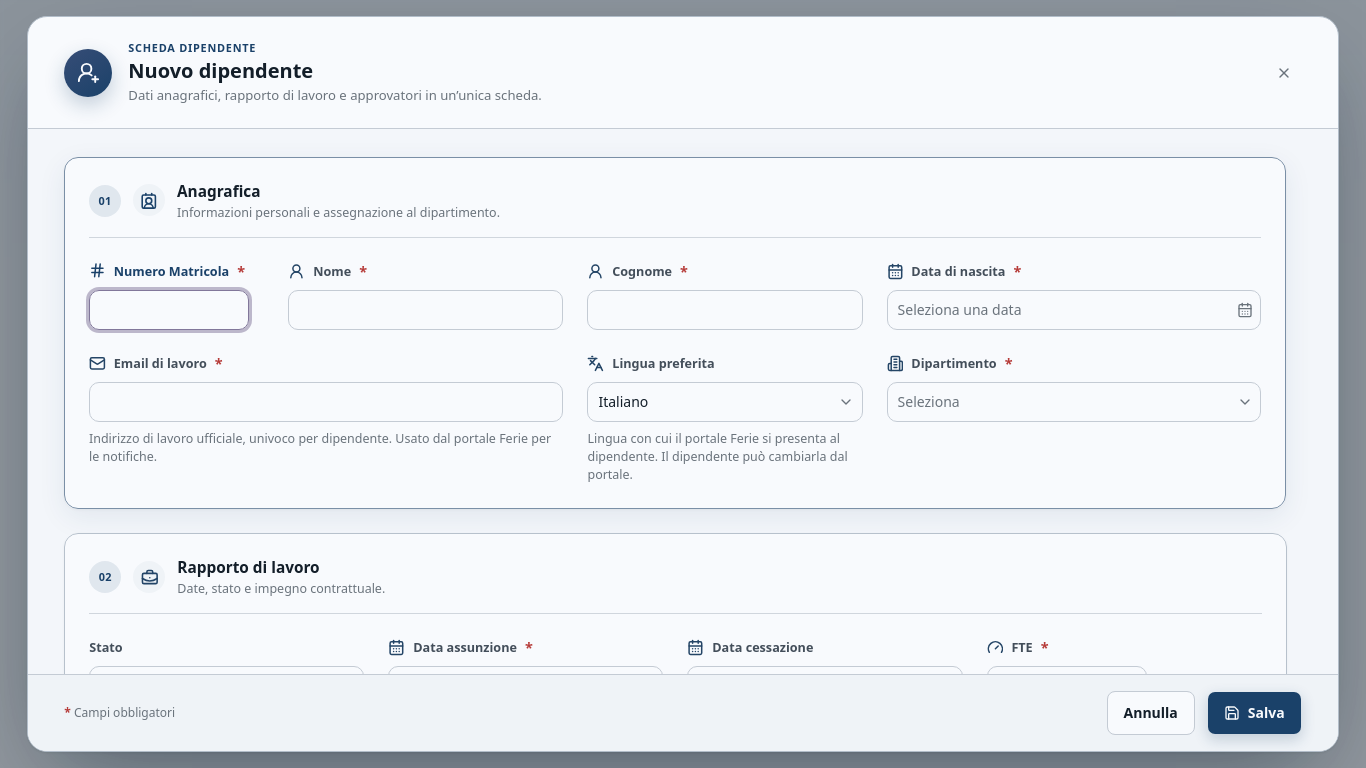
EmployeeForm modal › parses typed numeric dates as day/month/year
Type "15/03/1990" into the field named "Data di nascita". click: [1061, 310]
box: [888,290,1234,330]
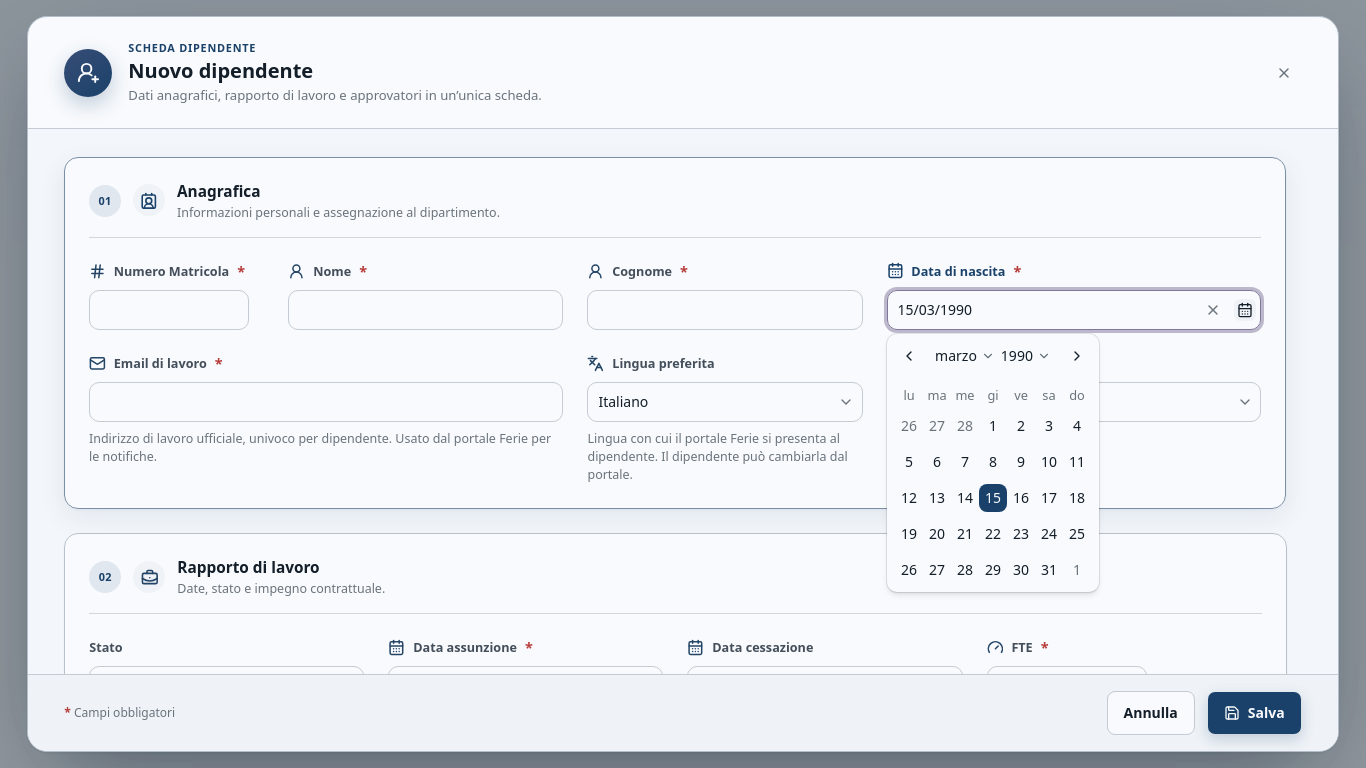
Press Tab
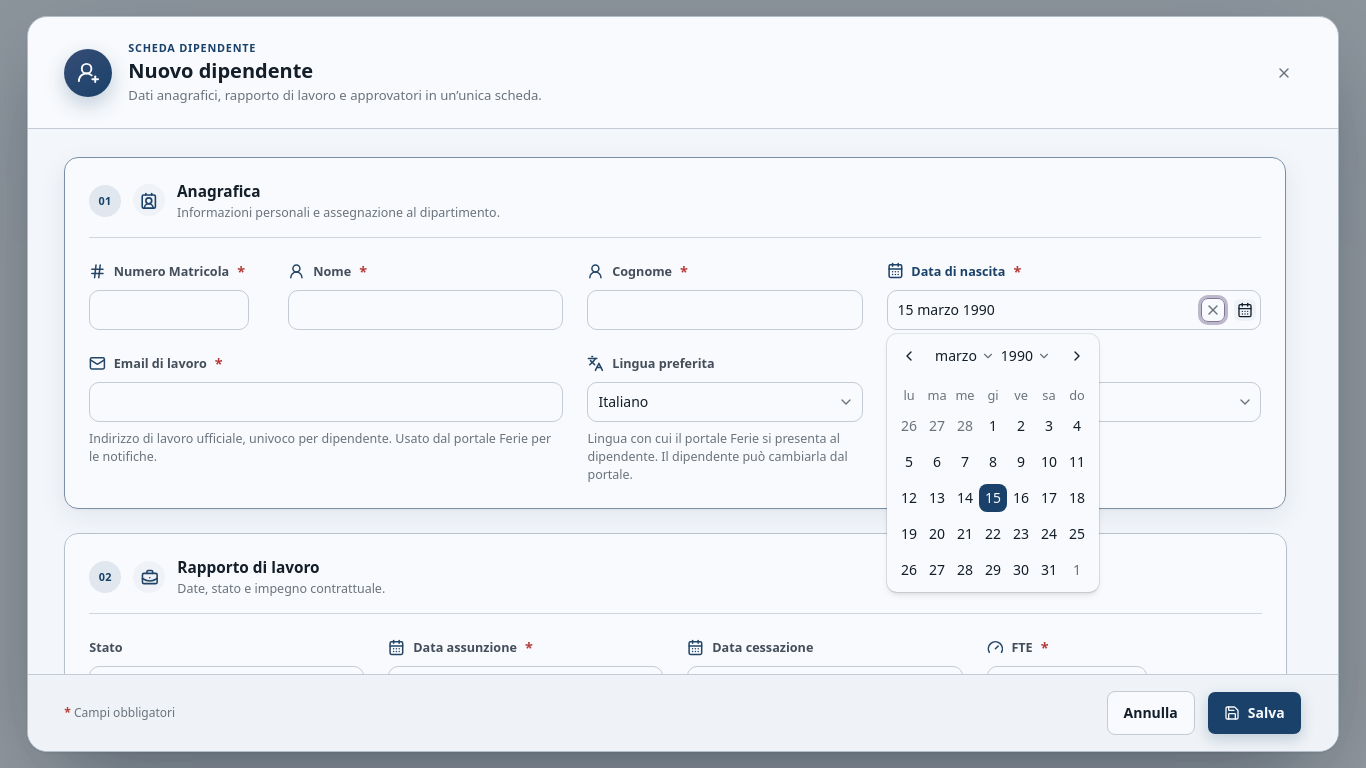
Check: the field named "Data di nascita" holds "15 marzo 1990"
1/5 must be 1 May (day-first), not 5 January (US month-first).
Clear the field named "Data di nascita". click: [1045, 310]
box: [888,290,1202,330]
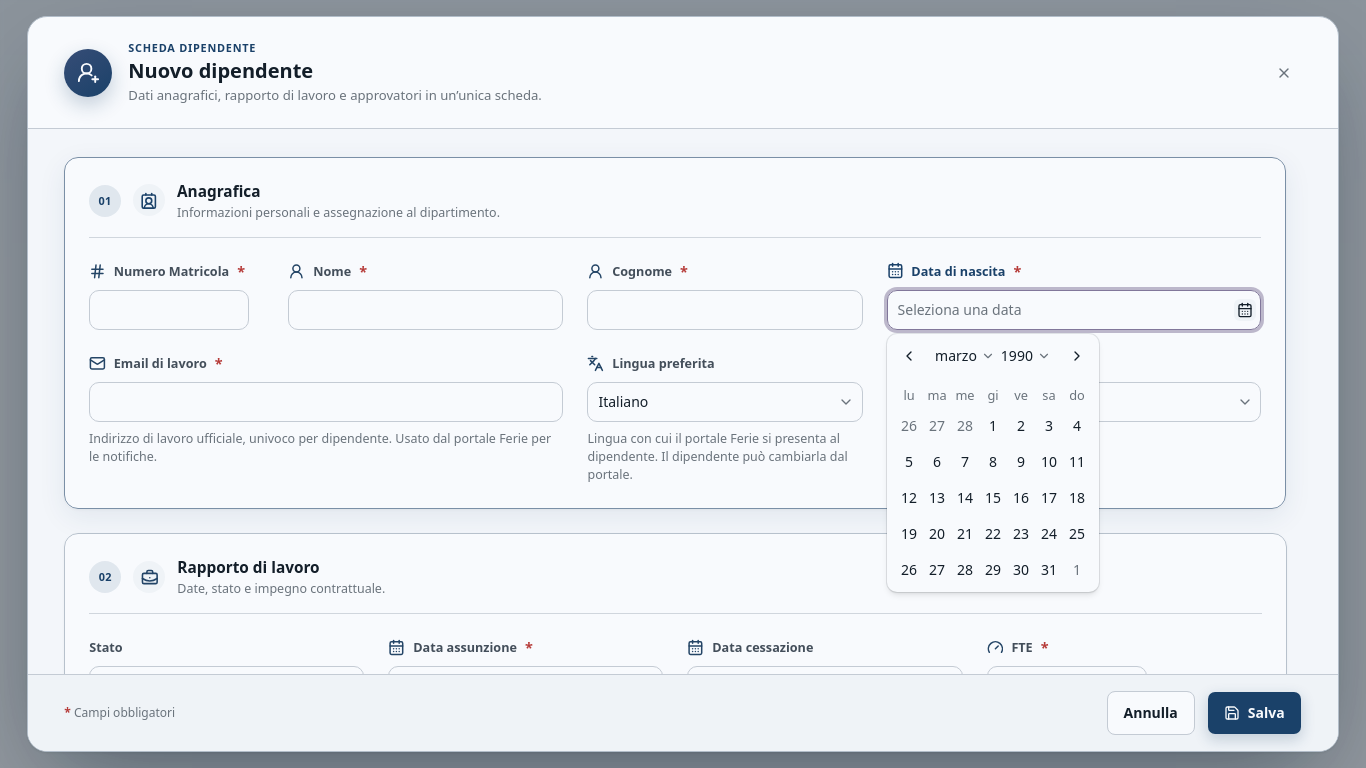
Type "1/5/1990" into the field named "Data di nascita". click: [1061, 310]
box: [888,290,1234,330]
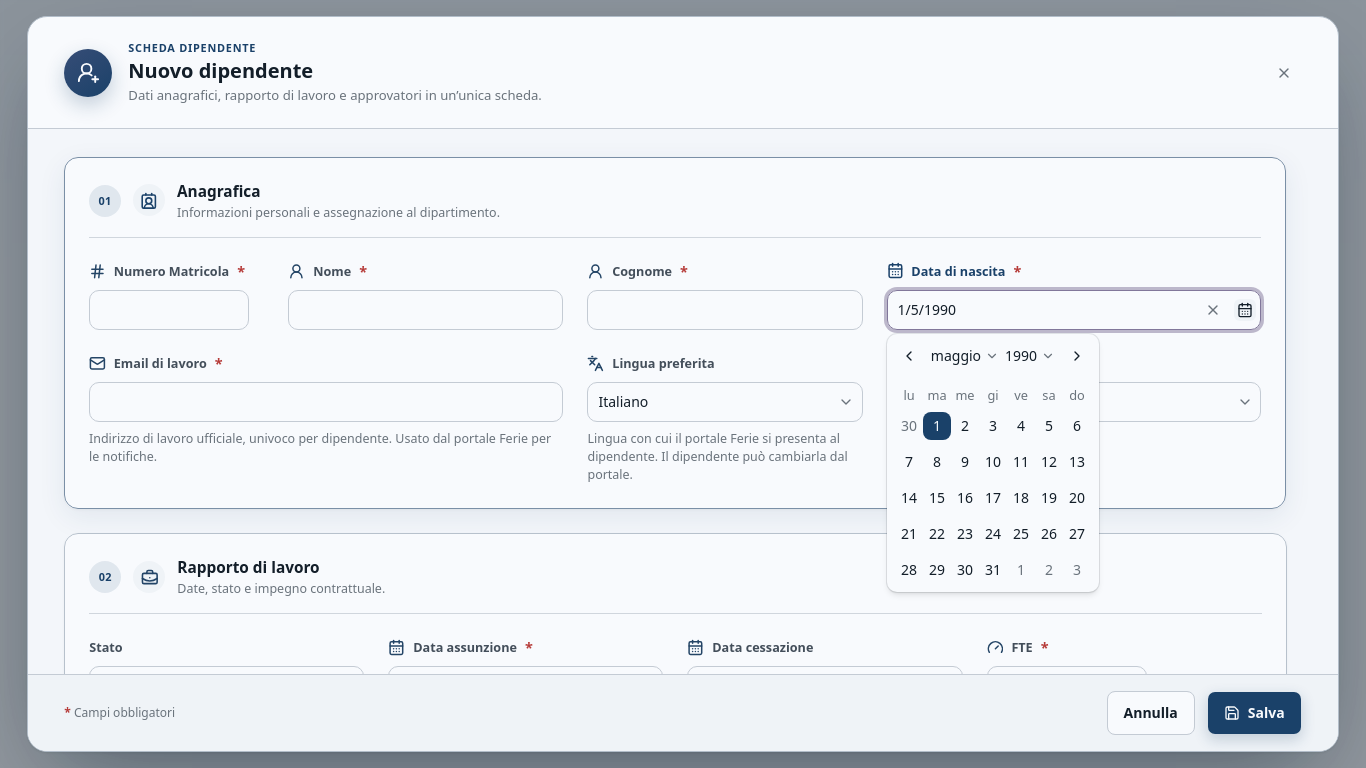
Press Tab
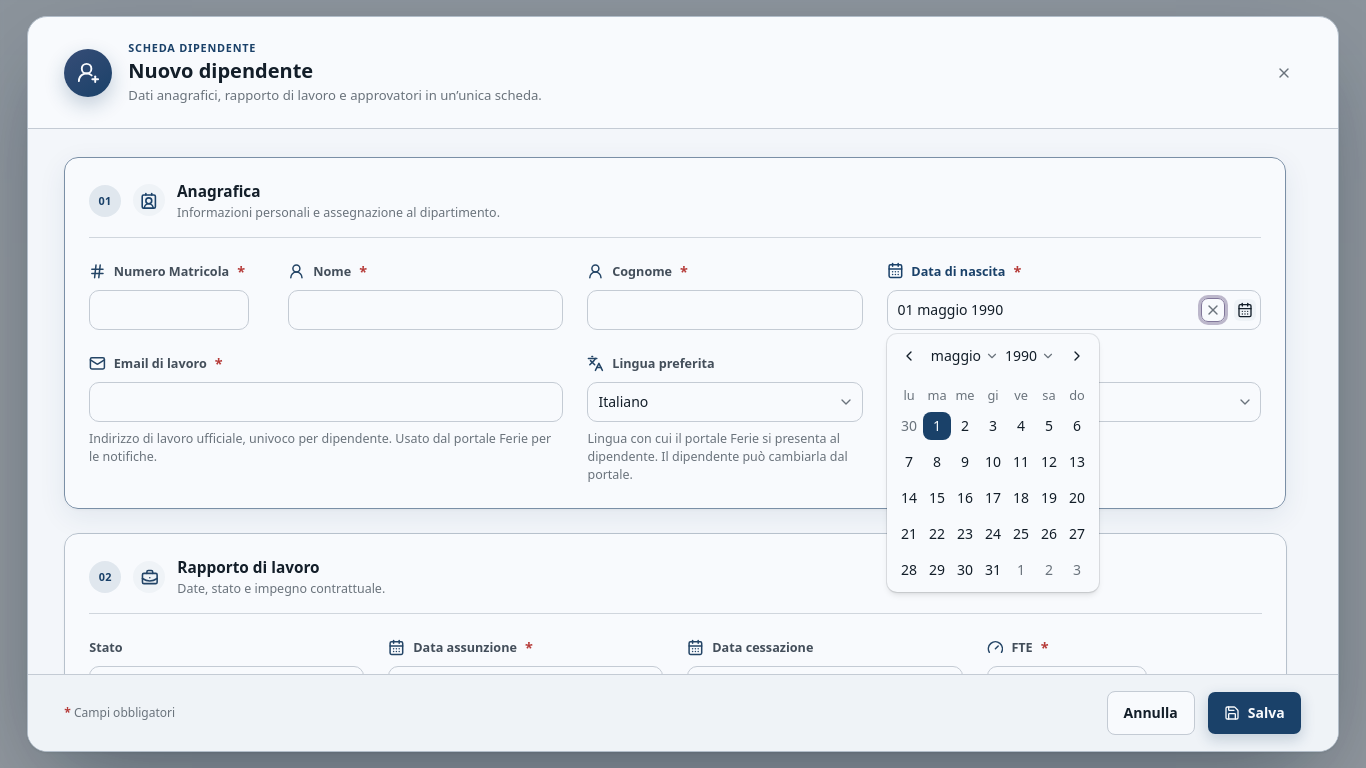
Check: the field named "Data di nascita" holds "01 maggio 1990", box [888,290,1202,330]
